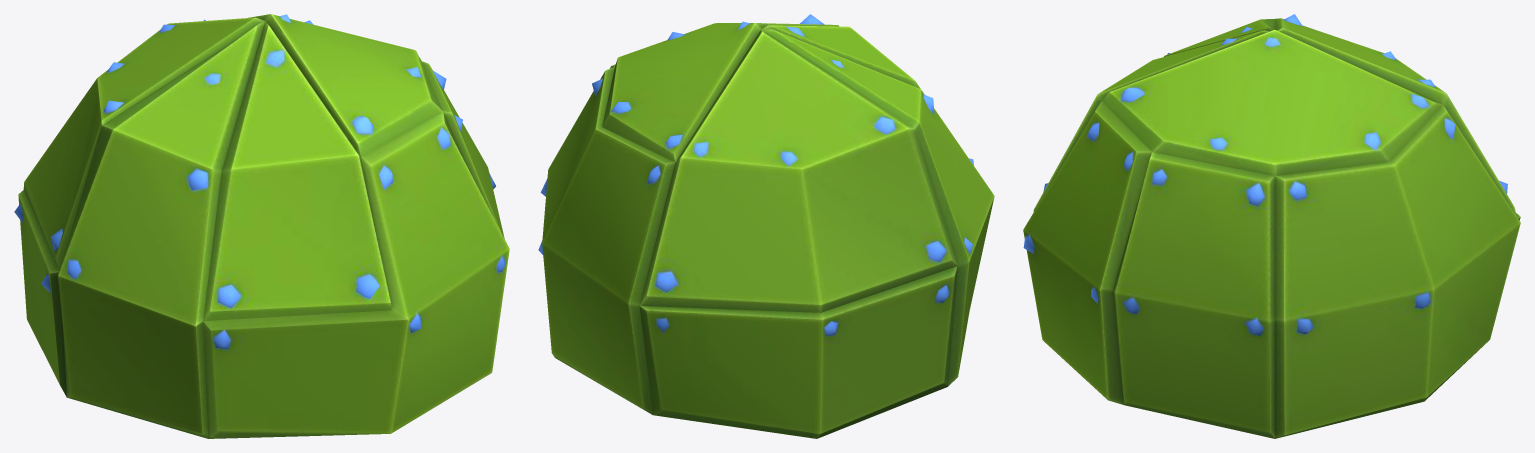
File: obj_bush01_base.gltf
3 renders of one model, left to right at view 1: azimuth 30°, elevation 25°; view 2: azimuth 150°, elevation 25°; view 3: azimuth 270°, elevation 25°, orthographic. The views are drawn at different scales.
Visible parts, largest first — view 1: obj_bush01_base; view 2: obj_bush01_base; view 3: obj_bush01_base.
Part boxes in pixels (bbox=[...]): obj_bush01_base: bbox=[14, 14, 509, 438]; obj_bush01_base: bbox=[538, 14, 994, 438]; obj_bush01_base: bbox=[1023, 14, 1520, 438].
Size of what is drawn, in the model's own units: 0.9788 by 0.738 by 1.03.
Materials: 1 (1 with a texture image).
